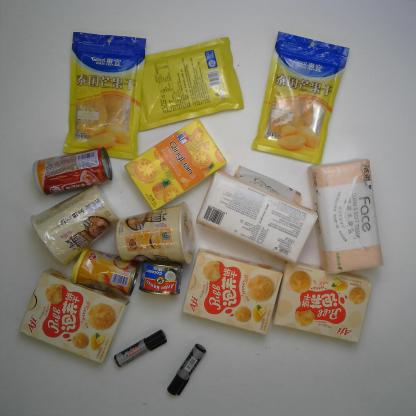Canned Food: (30, 145, 115, 197), (70, 244, 142, 298), (138, 256, 184, 298)
Dessert: (19, 267, 132, 365), (123, 116, 229, 214), (180, 246, 284, 338), (272, 253, 374, 346)
Dried Fruit: (250, 28, 351, 168), (60, 28, 152, 166), (129, 36, 246, 132)
Instant Noodles: (28, 183, 122, 267), (113, 200, 197, 267)
Stationery: (112, 327, 169, 370), (166, 342, 208, 396)
Tissue: (195, 168, 320, 266), (306, 155, 387, 278)
